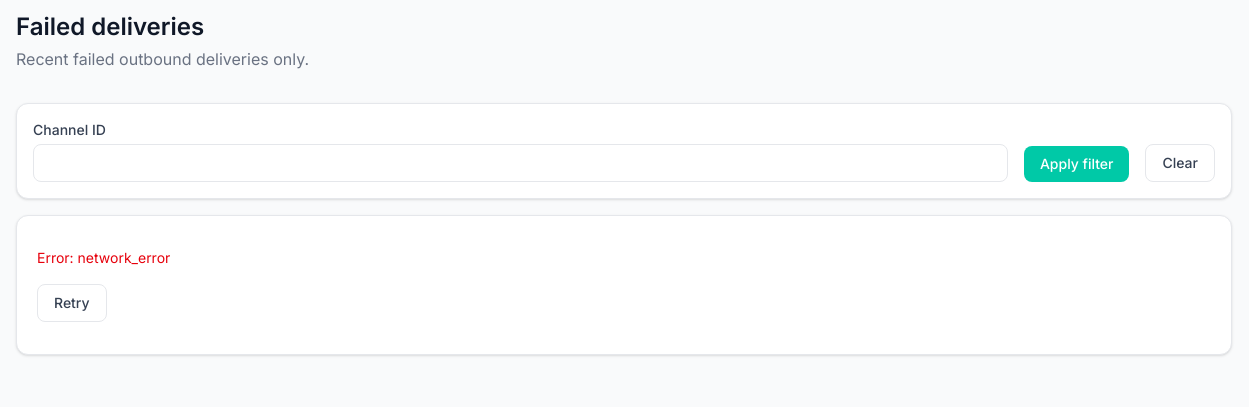
Test: AdminDeliveriesPage › renders an explicit load failure with retry instead of the empty state
Click the button with test id "retry-load". click: point(72, 303)
box: [37, 284, 107, 322]
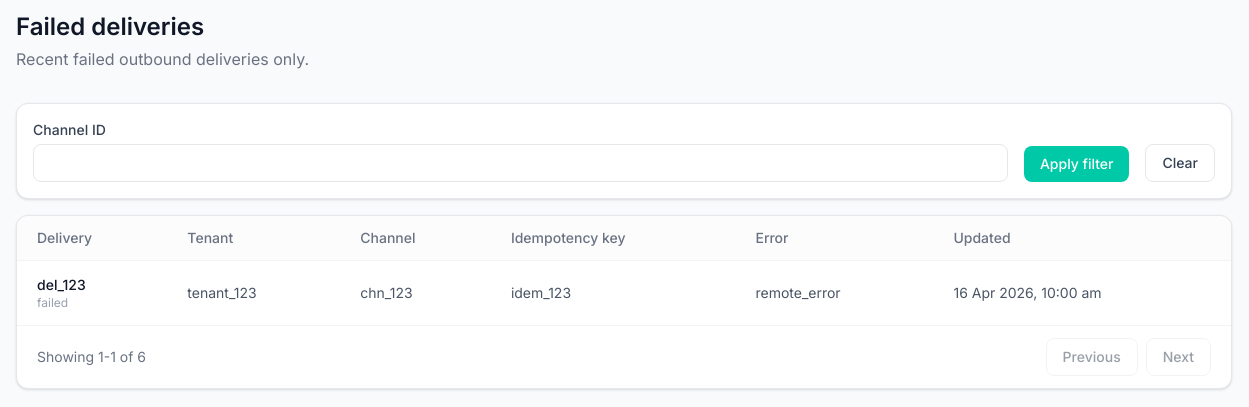
Now the text "idem_123" is shown, box [491, 260, 735, 325]
